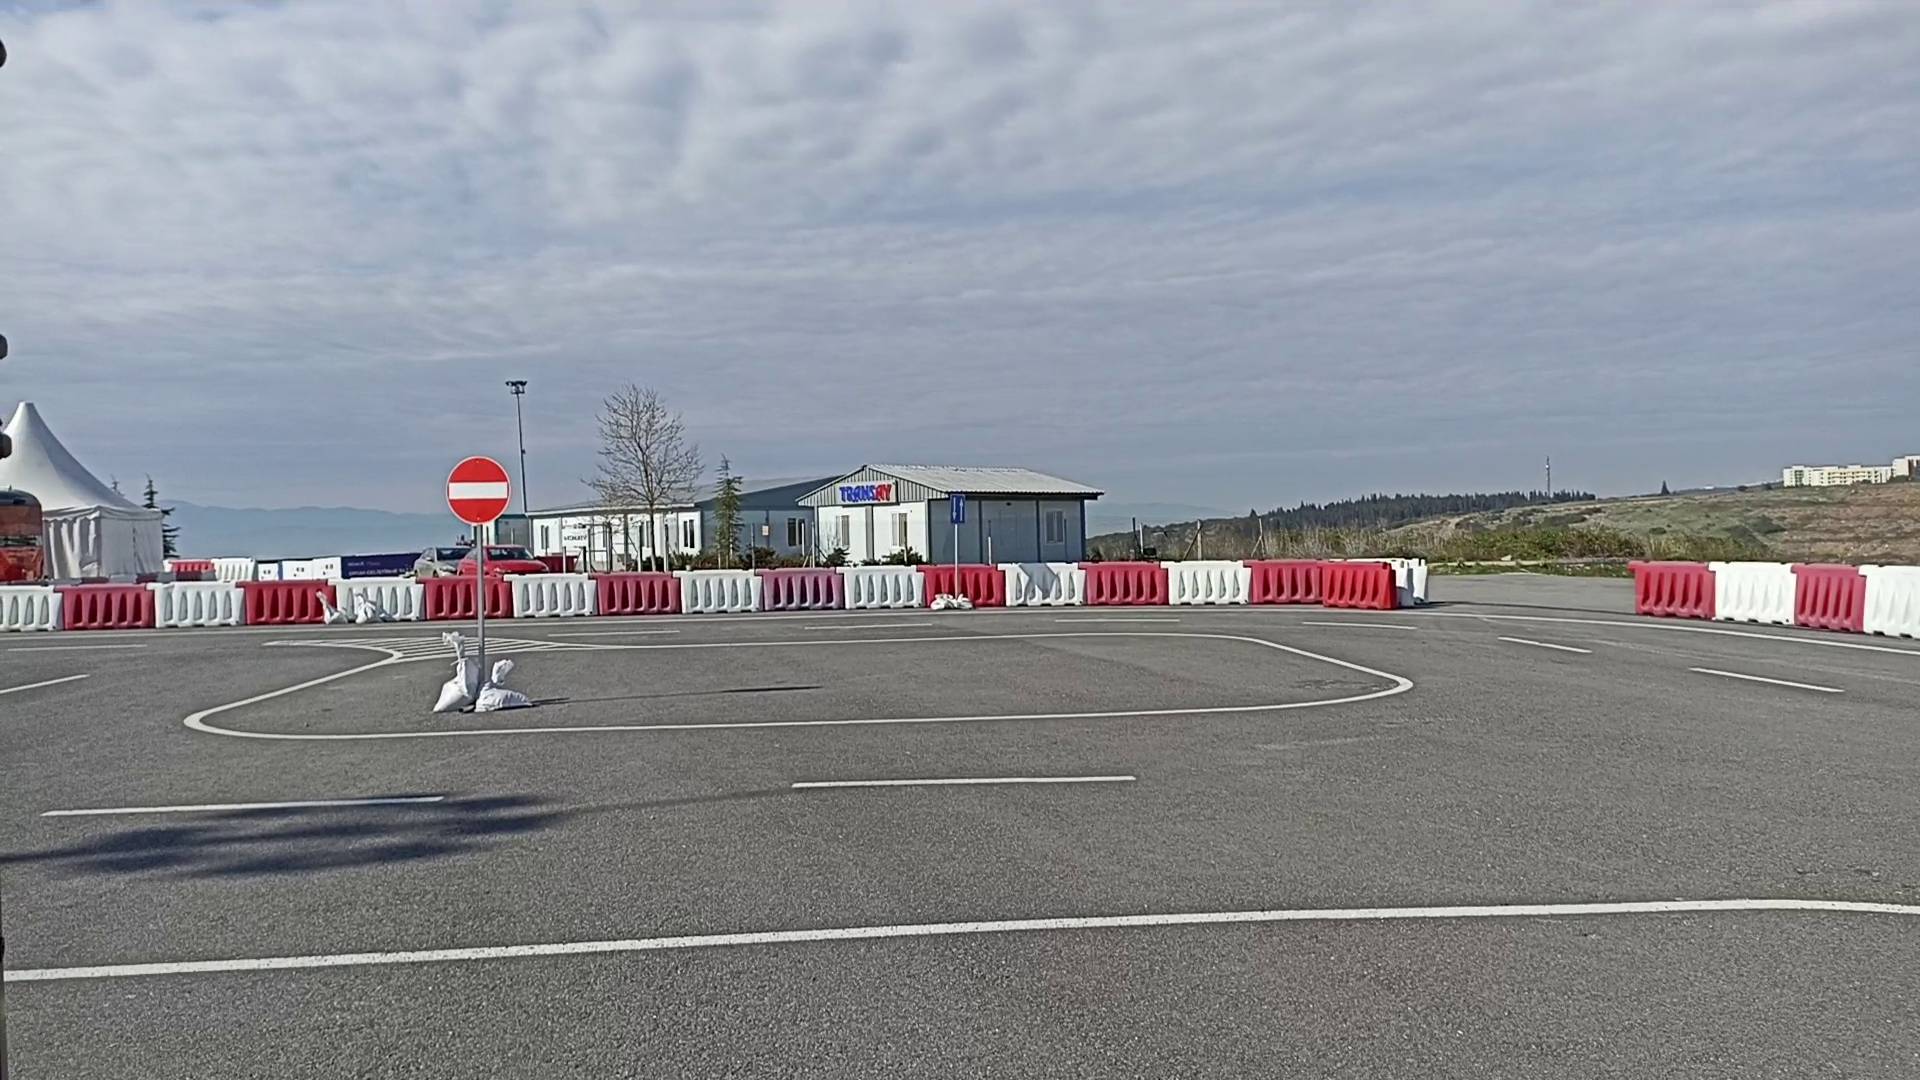noentryway: (444, 451, 512, 525)
